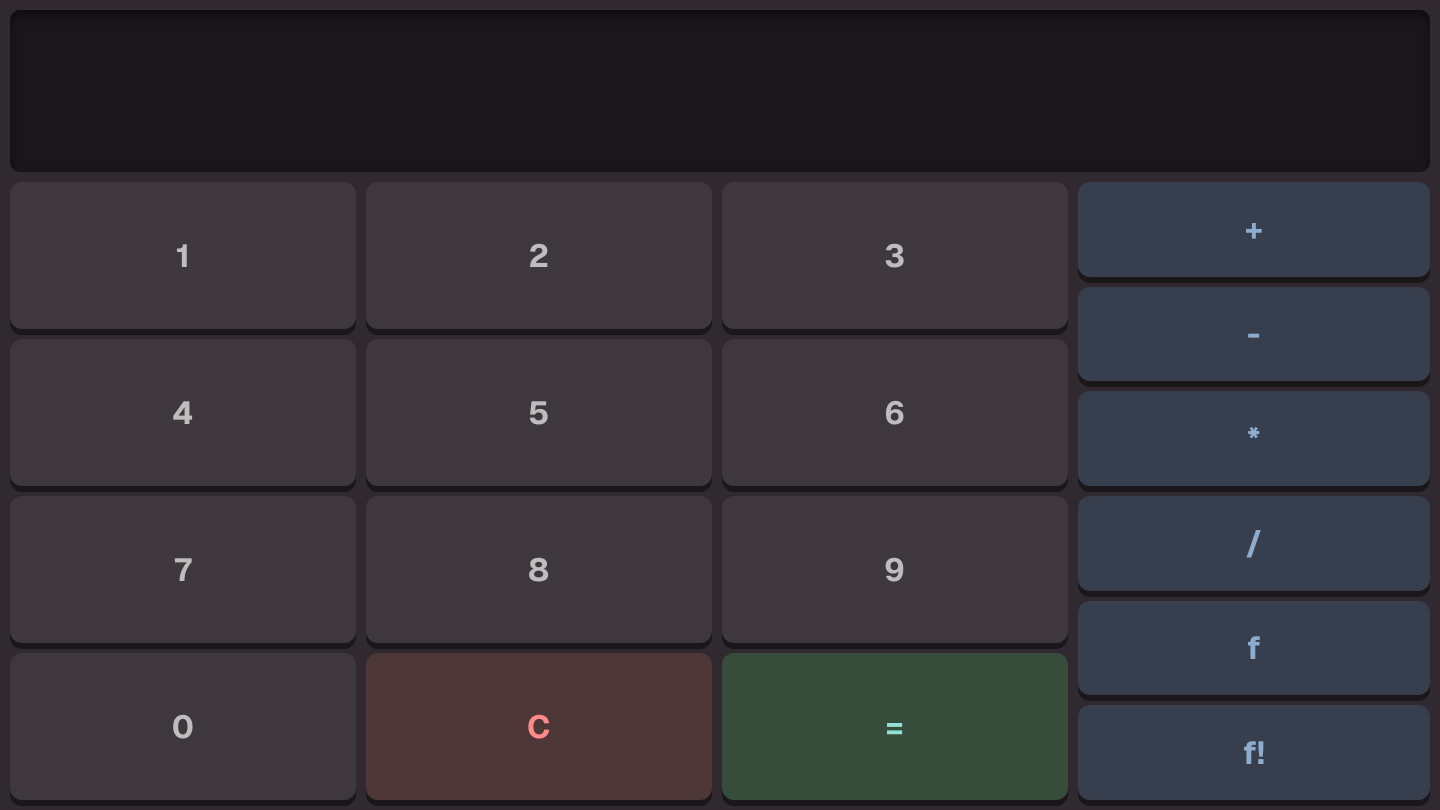
Test case: Calculator Component › allows typing numbers and operators
The image size is (1440, 810).
Click the button "5": (539, 412) [366,339,712,486]
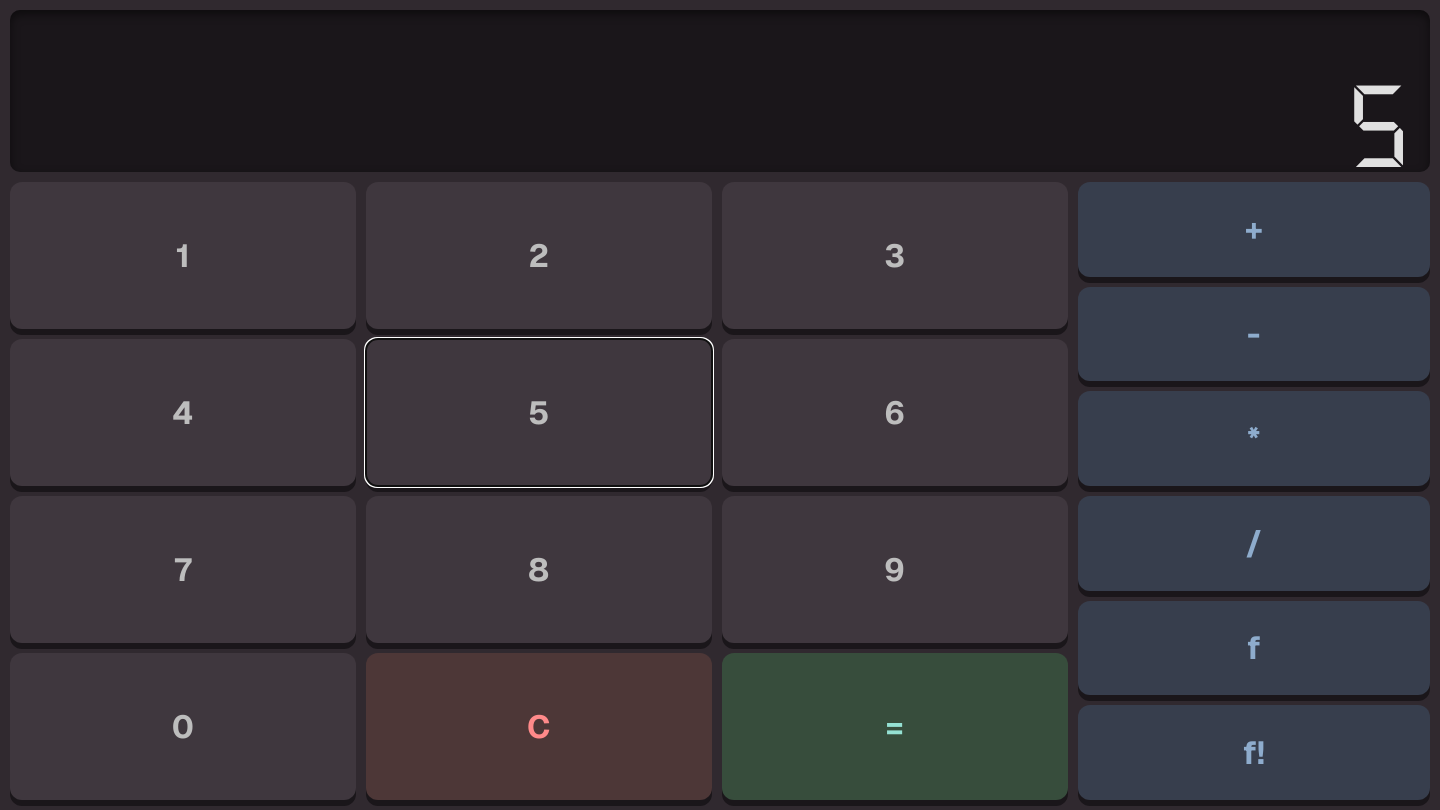
Click the button "+": (1254, 229) [1078,182,1430,277]
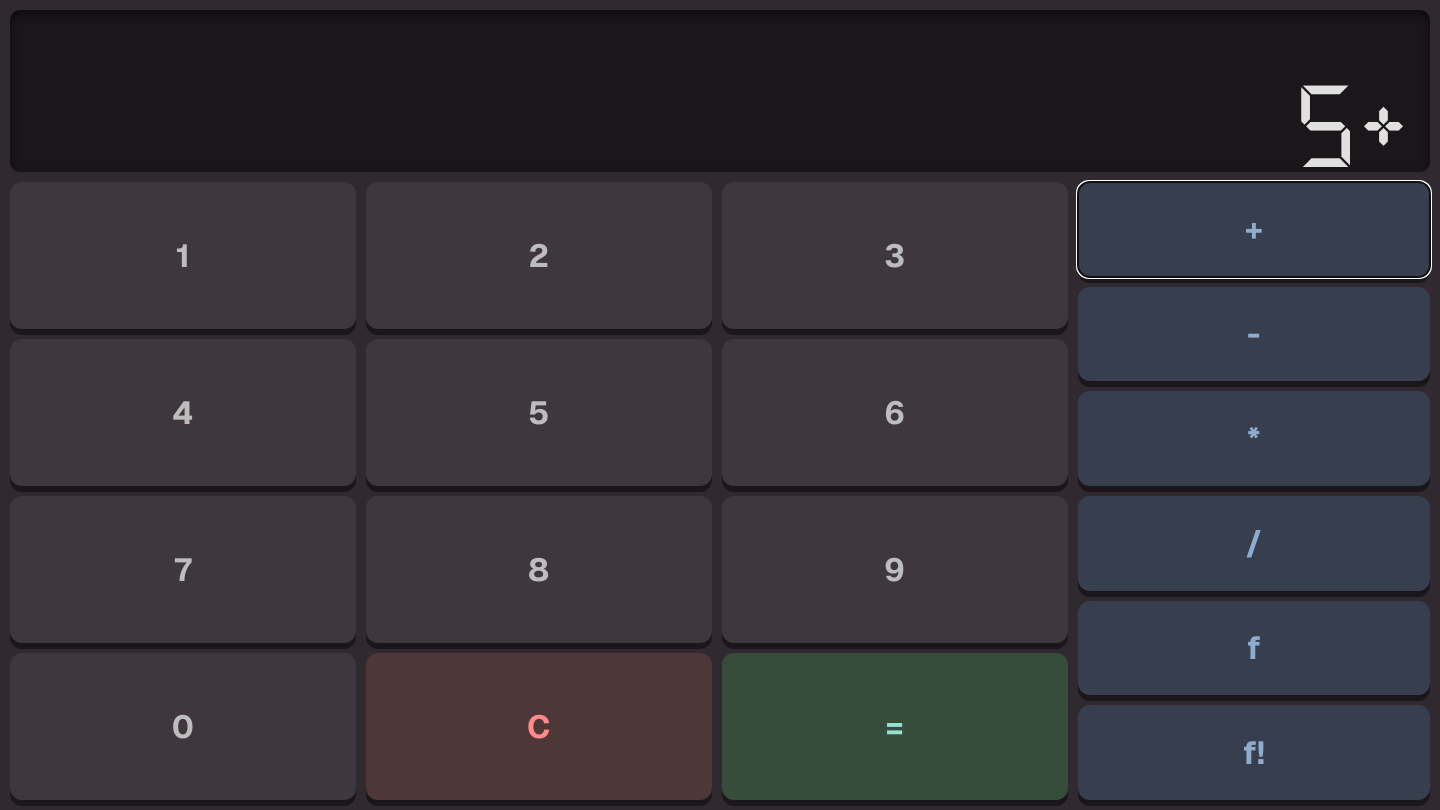
Click the button "3": (895, 256) [722,182,1068,329]
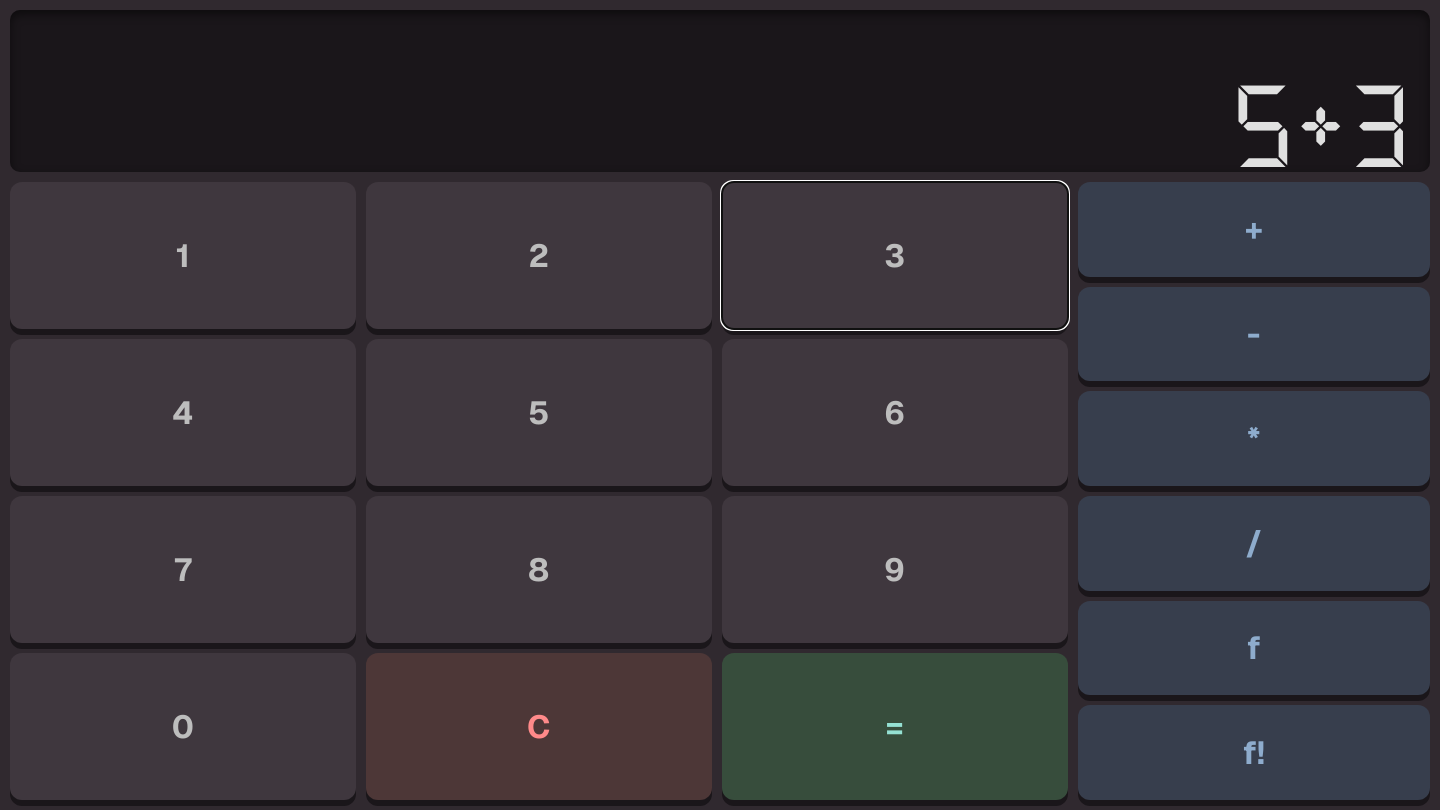
Expected: the text box holds "5+3", [10,10,1430,172]
